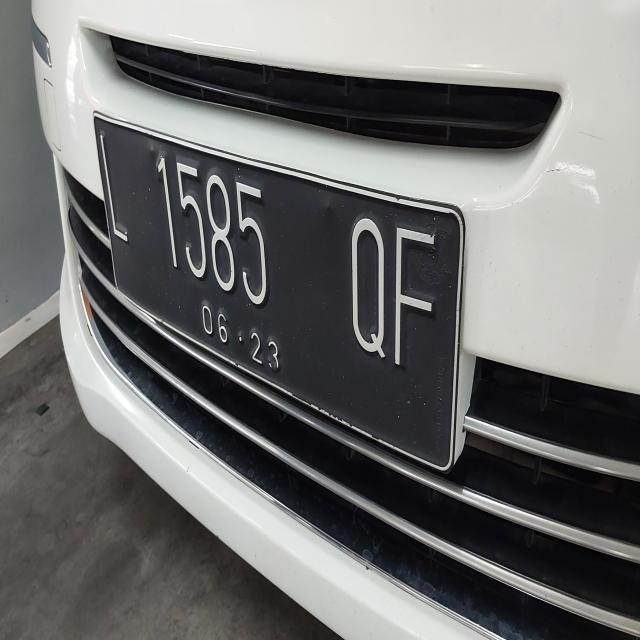1: (147, 147, 189, 286)
5: (232, 158, 272, 322), (171, 148, 214, 294)
8: (204, 156, 241, 312)
F: (388, 204, 441, 394)
L: (94, 120, 141, 254)
Q: (341, 186, 394, 380)
